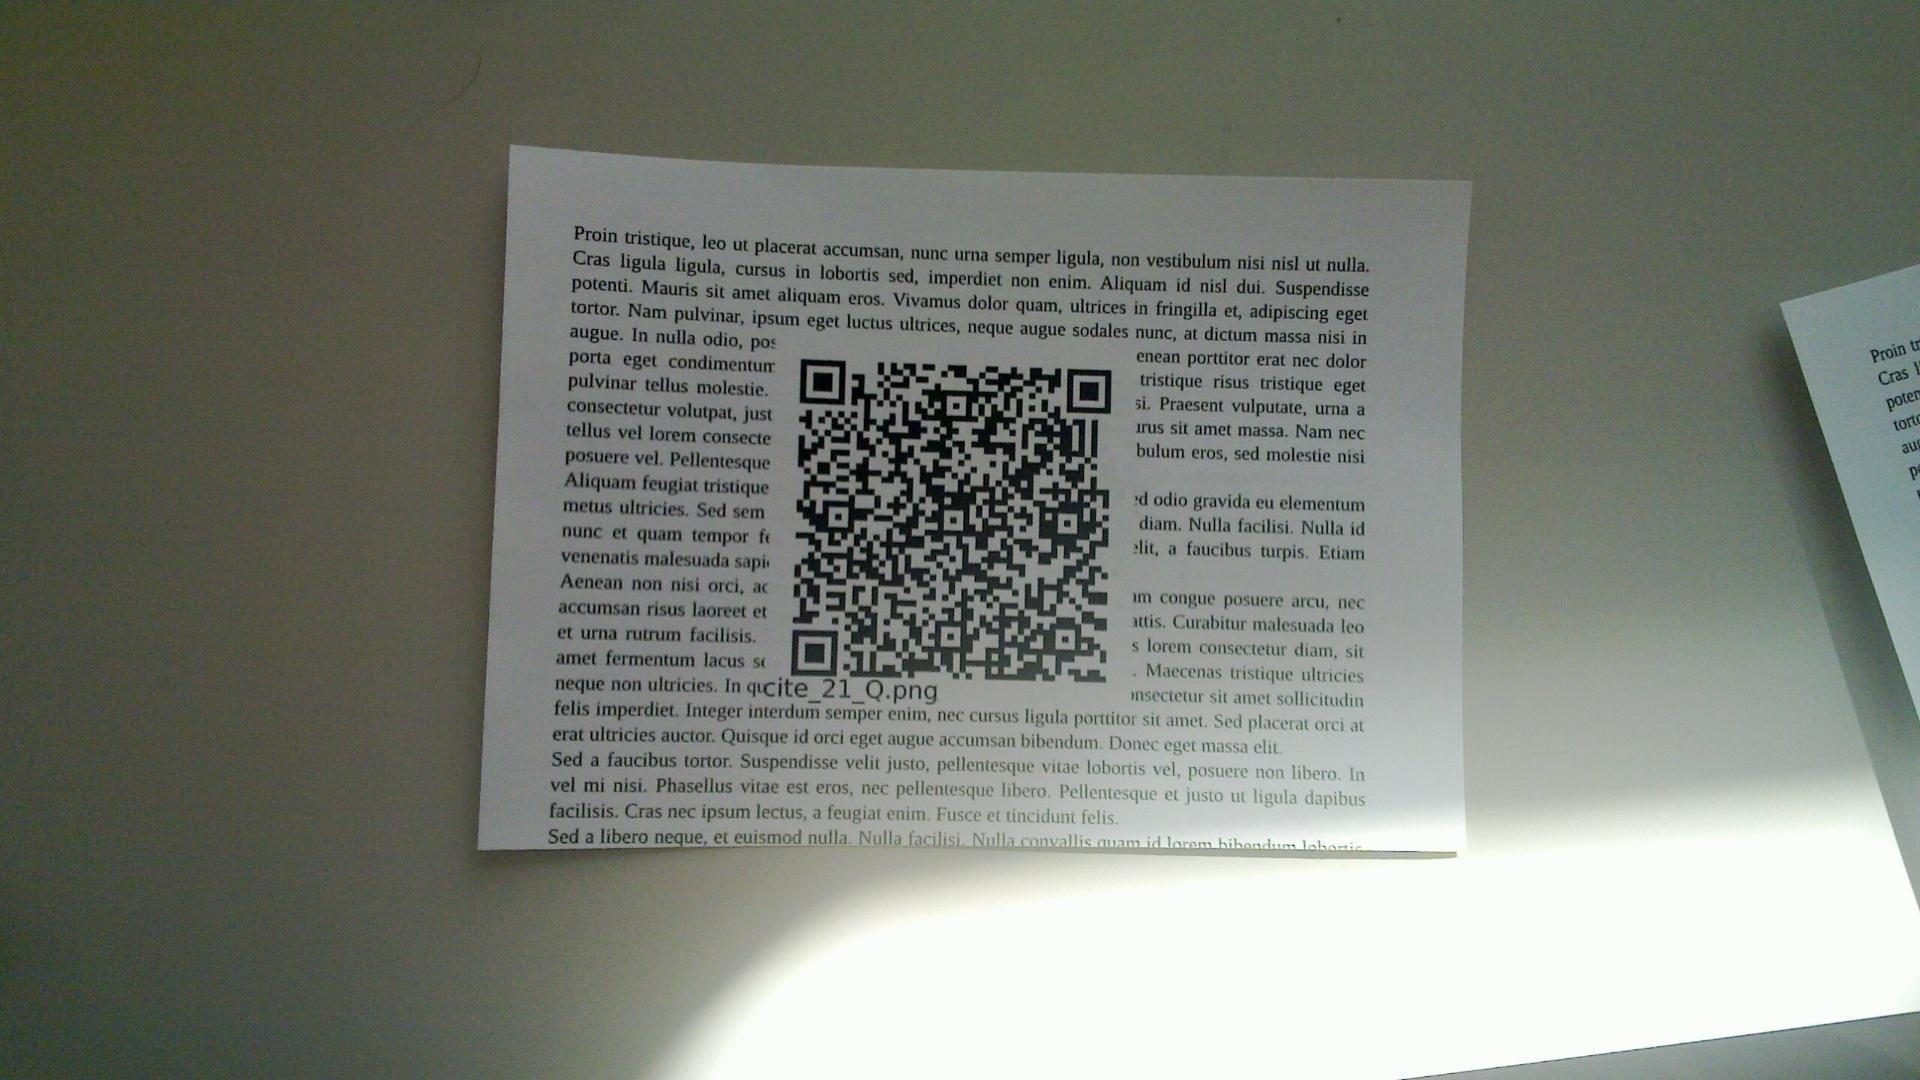Finder pattern: (787, 624, 843, 680), (1063, 364, 1117, 419), (798, 353, 851, 407)
